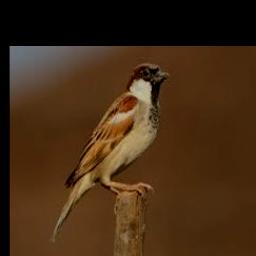Sparrow: (50, 63, 170, 244)
